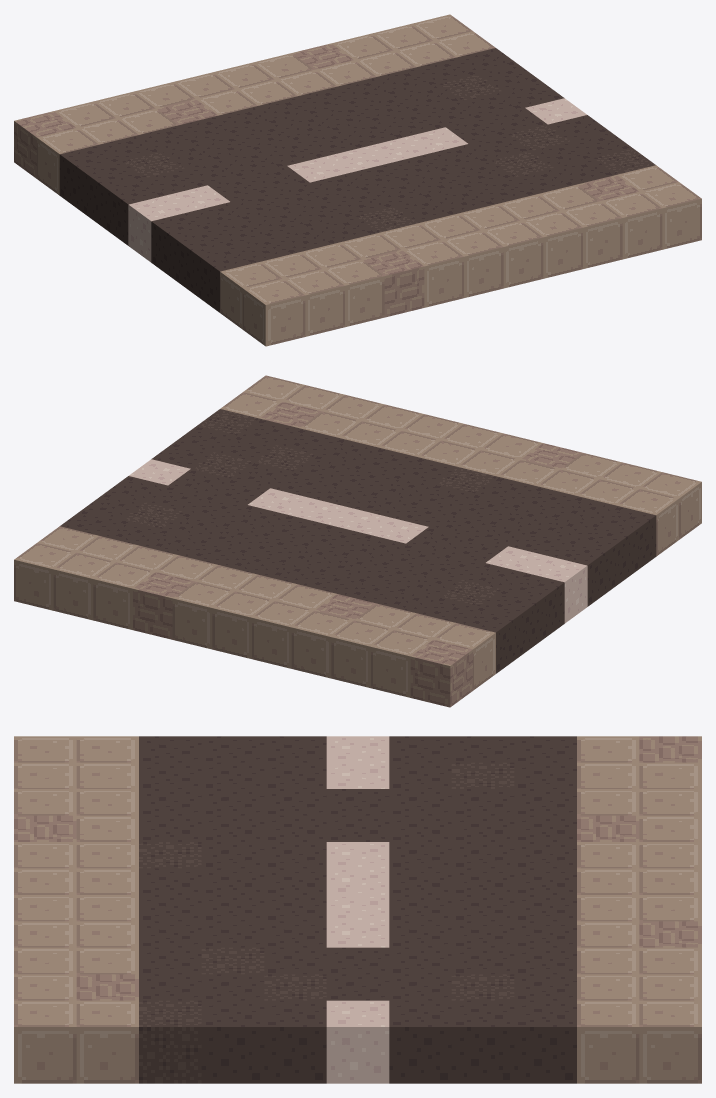
3 renders of one model, top to bottom at view 1: azimuth 30°, elevation 25°; view 2: azimuth 150°, elevation 25°; view 3: azimuth 270°, elevation 25°, orthographic. The views are drawn at different scales.
Visible parts, largest first — view 1: city_road_1.schem; view 2: city_road_1.schem; view 3: city_road_1.schem.
Boxes of the visible parts, x1,y1,x2,y2 form: city_road_1.schem: [14, 14, 701, 346]; city_road_1.schem: [14, 375, 701, 707]; city_road_1.schem: [14, 736, 701, 1083].
Bounding box in the file's own units: 2 × 0.1818 × 2.
Materials: 6 (6 with a texture image).
